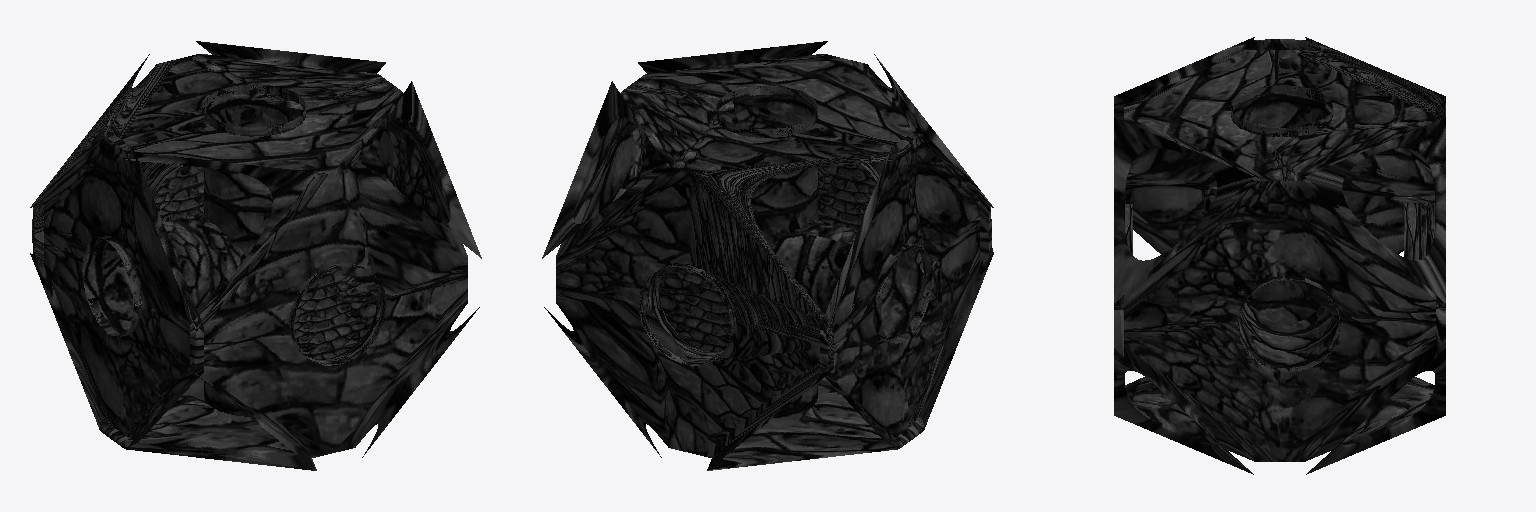
3 renders of one model, left to right at view 1: azimuth 30°, elevation 25°; view 2: azimuth 150°, elevation 25°; view 3: azimuth 270°, elevation 25°, orthographic.
Visible parts, largest first — view 1: black1:pCube5 group1; view 2: black1:pCube5 group1; view 3: black1:pCube5 group1.
Part boxes in pixels (bbox=[...]): black1:pCube5 group1: bbox=[30, 41, 481, 470]; black1:pCube5 group1: bbox=[542, 41, 993, 470]; black1:pCube5 group1: bbox=[1114, 37, 1445, 474].
Size of the model in its own units: 2.97 by 2.95 by 2.97.
Materials: 1 (1 with a texture image).